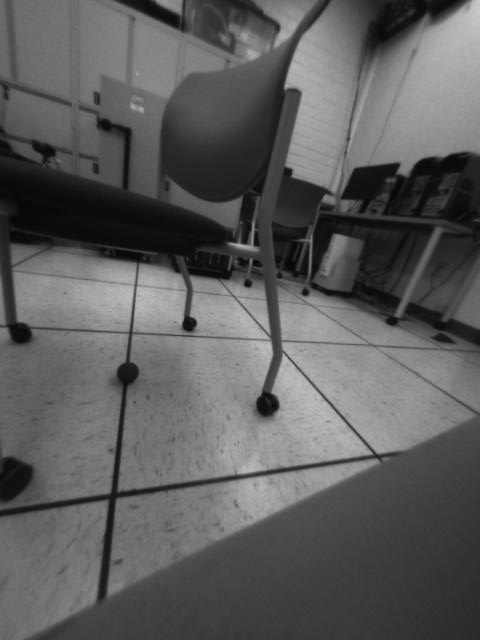dogtoy: (108, 354, 148, 390)
